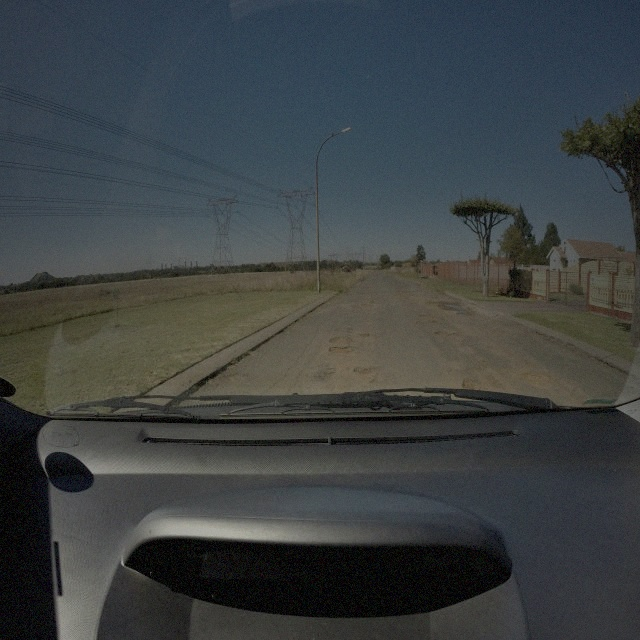pothole: (460, 374, 483, 394), (328, 346, 351, 358), (328, 336, 354, 346), (524, 367, 542, 381), (354, 367, 377, 377), (433, 329, 458, 338), (417, 312, 434, 322), (359, 331, 373, 341)
